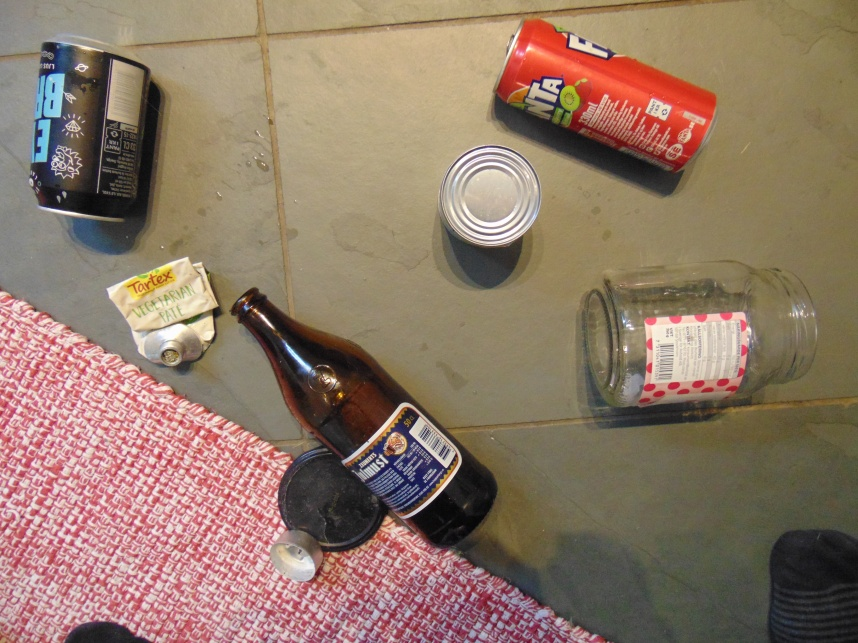glass_bottle: (230, 286, 496, 553), (581, 259, 820, 410)
metal: (107, 257, 220, 368), (280, 446, 384, 551), (269, 530, 324, 582)
metal_can: (492, 17, 721, 176), (29, 34, 150, 221), (439, 145, 542, 251)
